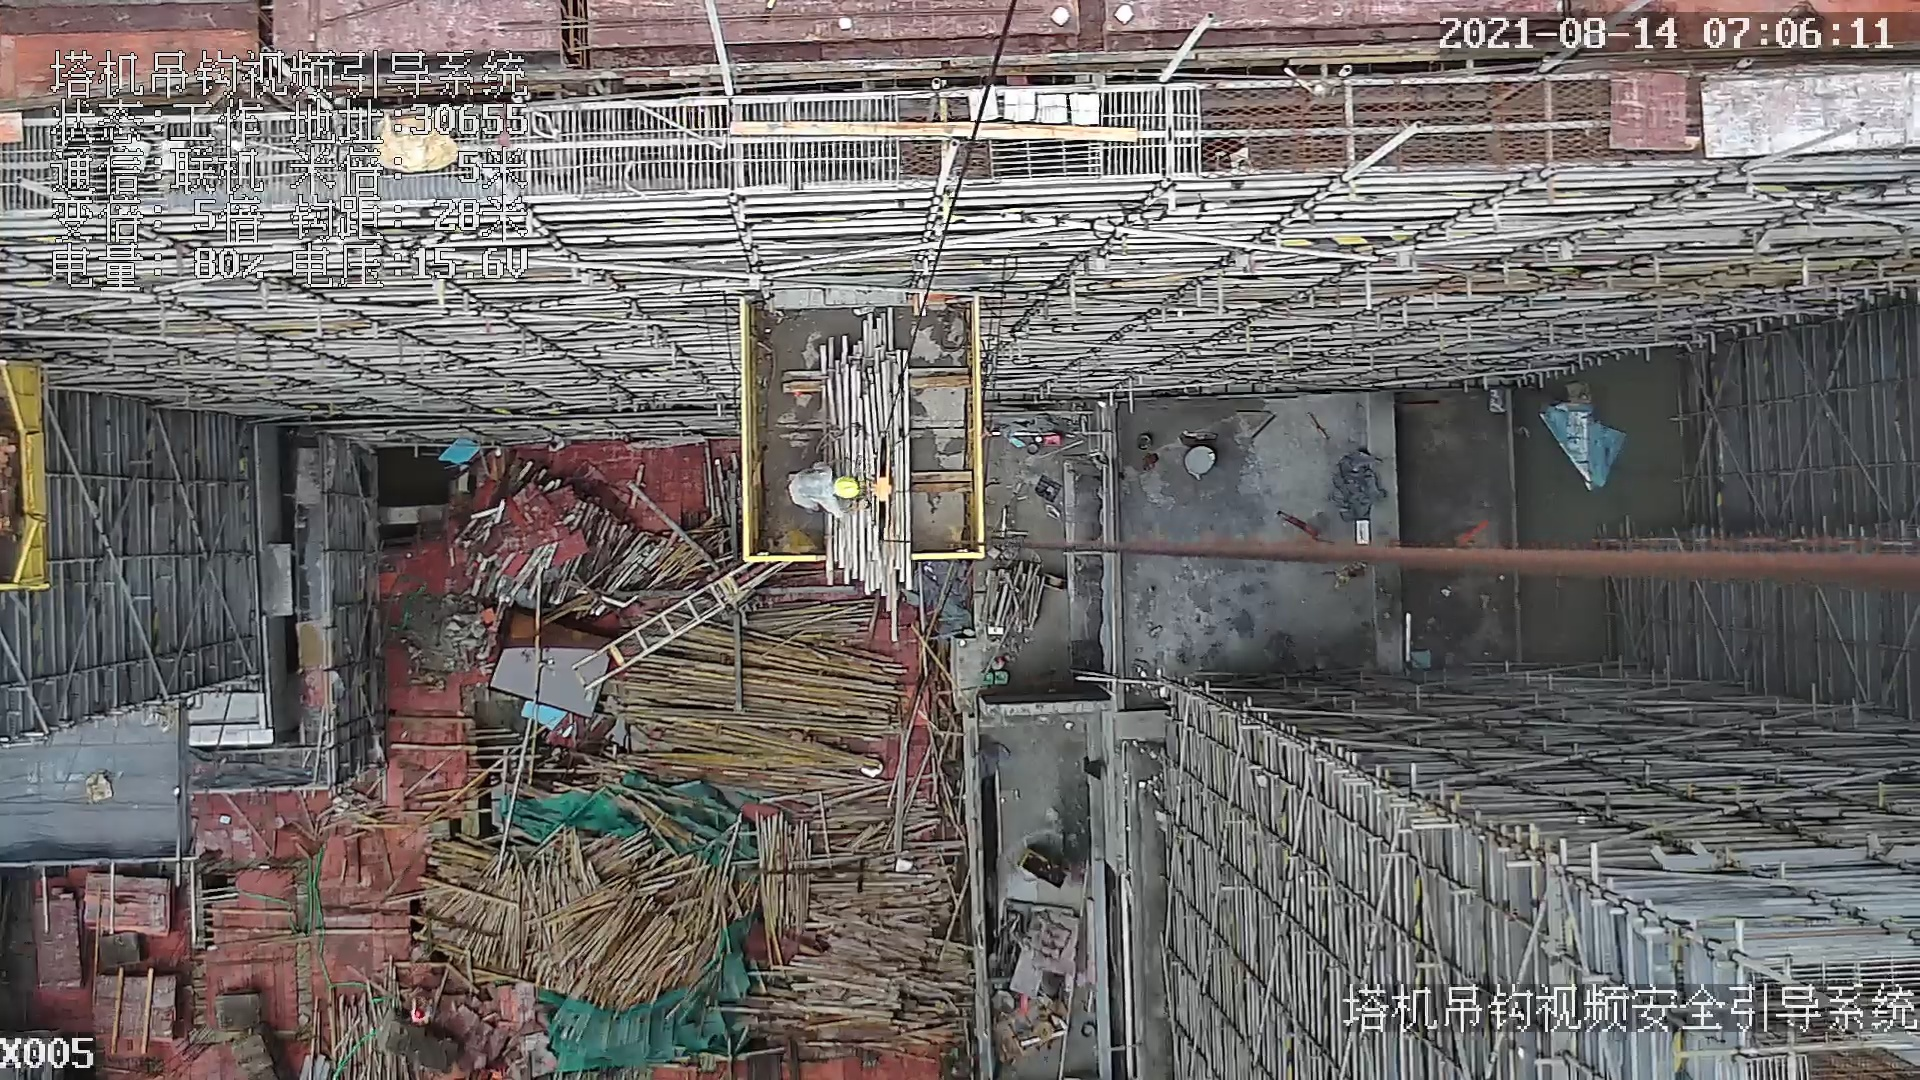helmet: (833, 476, 860, 497)
hook: (858, 426, 899, 545)
person: (787, 465, 856, 521)
